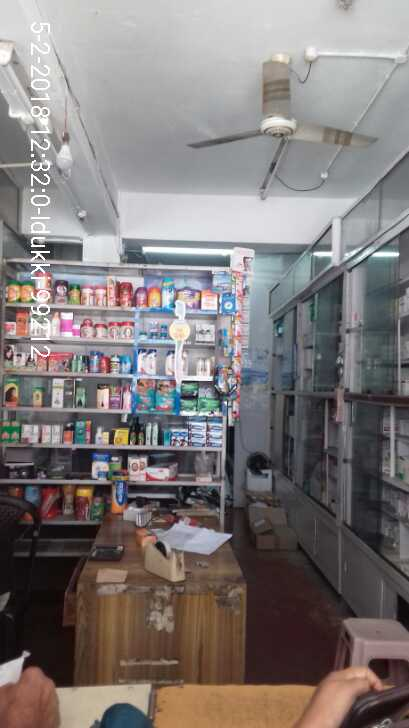vicks: (139, 323, 168, 341)
